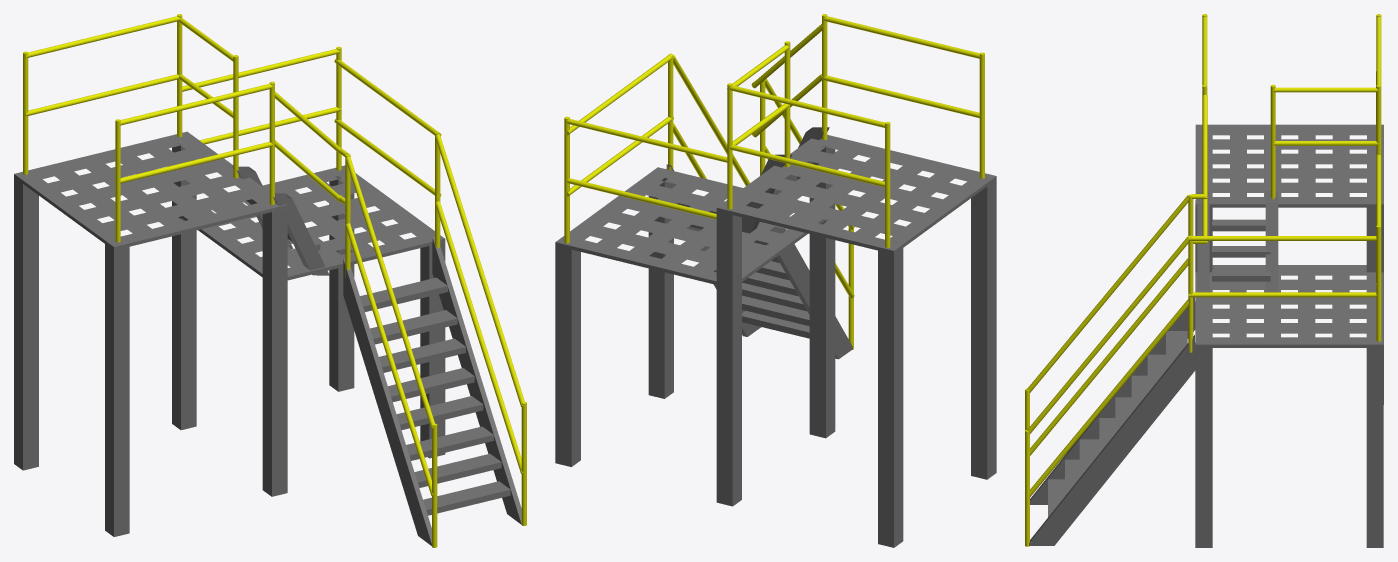
Rendered from stairs (1).fbx.
3 views of the same model, side by side, from view 1: azimuth 30°, elevation 25°; view 2: azimuth 150°, elevation 25°; view 3: azimuth 270°, elevation 25° (orthographic). The views are drawn at different scales.
Visible parts, largest first — view 1: pCube12, pCube1, pCube2, pCube3, pCylinder9, pCylinder5, pCylinder2, pCylinder7, pCube13, pCube4, pCube11, pCube10 (+21 smaller); view 2: pCube1, pCube12, pCube2, pCube5, pCylinder25, pCylinder18, pCylinder17, pCylinder23, pCube4, pCube6, pCylinder5, pCylinder34 (+13 smaller); view 3: pCube1, pCube12, pCube3, pCube2, pCylinder9, pCylinder5, pCylinder2, pCylinder7, pCube14, pCylinder27, pCube13, pCylinder26 (+17 smaller).
Part boxes in pixels (<box>): pCube12: <box>14,131,287,536</box>; pCube1: <box>172,142,445,496</box>; pCube2: <box>343,258,431,545</box>; pCube3: <box>432,236,522,524</box>; pCylinder9: <box>345,156,435,428</box>; pCylinder5: <box>435,134,524,406</box>; pCylinder2: <box>435,201,523,473</box>; pCylinder7: <box>345,223,433,495</box>; pCube13: <box>269,193,329,275</box>; pCube4: <box>423,481,510,515</box>; pCube11: <box>360,277,447,311</box>; pCube10: <box>370,310,457,344</box>; pCube1: <box>555,143,835,506</box>; pCube12: <box>716,135,996,547</box>; pCube2: <box>769,226,852,359</box>; pCube5: <box>742,295,809,326</box>; pCylinder25: <box>566,119,727,162</box>; pCylinder18: <box>727,85,887,127</box>; pCylinder17: <box>730,145,885,187</box>; pCylinder23: <box>567,178,716,219</box>; pCube4: <box>742,311,809,338</box>; pCube6: <box>742,282,807,311</box>; pCylinder5: <box>673,54,749,185</box>; pCylinder34: <box>784,41,790,167</box>; pCube1: <box>1195,200,1383,547</box>; pCube12: <box>1195,124,1383,404</box>; pCube3: <box>1029,335,1195,545</box>; pCube2: <box>1030,297,1195,504</box>; pCylinder9: <box>1027,195,1188,392</box>; pCylinder5: <box>1027,236,1188,433</box>; pCylinder2: <box>1029,299,1188,496</box>; pCylinder7: <box>1030,258,1188,455</box>; pCube14: <box>1265,191,1278,290</box>; pCylinder27: <box>1188,292,1376,297</box>; pCube13: <box>1197,191,1209,290</box>; pCylinder26: <box>1188,236,1376,240</box>.
Size of the model in its own units: 8.19 by 9.73 by 8.17.
